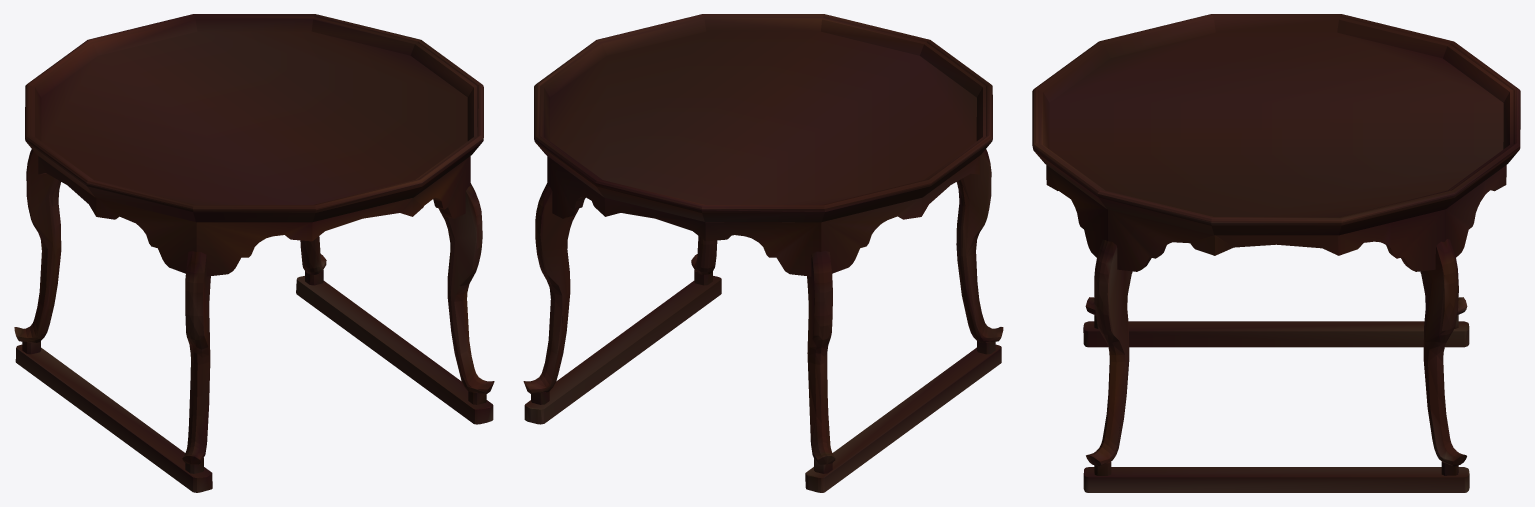
The model's file is unhyun_table_tigers_legs_ad7fa3c4.glb.
3 views of the same model, side by side, from view 1: azimuth 30°, elevation 25°; view 2: azimuth 150°, elevation 25°; view 3: azimuth 270°, elevation 25° (orthographic). The views are drawn at different scales.
Visible parts, largest first — view 1: SM_TableTigersLegs_M_TableTigersLegs_0; view 2: SM_TableTigersLegs_M_TableTigersLegs_0; view 3: SM_TableTigersLegs_M_TableTigersLegs_0.
Boxes of the visible parts, bbox=[...] form: SM_TableTigersLegs_M_TableTigersLegs_0: bbox=[14, 14, 494, 492]; SM_TableTigersLegs_M_TableTigersLegs_0: bbox=[523, 14, 1003, 492]; SM_TableTigersLegs_M_TableTigersLegs_0: bbox=[1032, 14, 1520, 492].
Size of the model in its own units: 0.5934 by 0.4013 by 0.5934.
